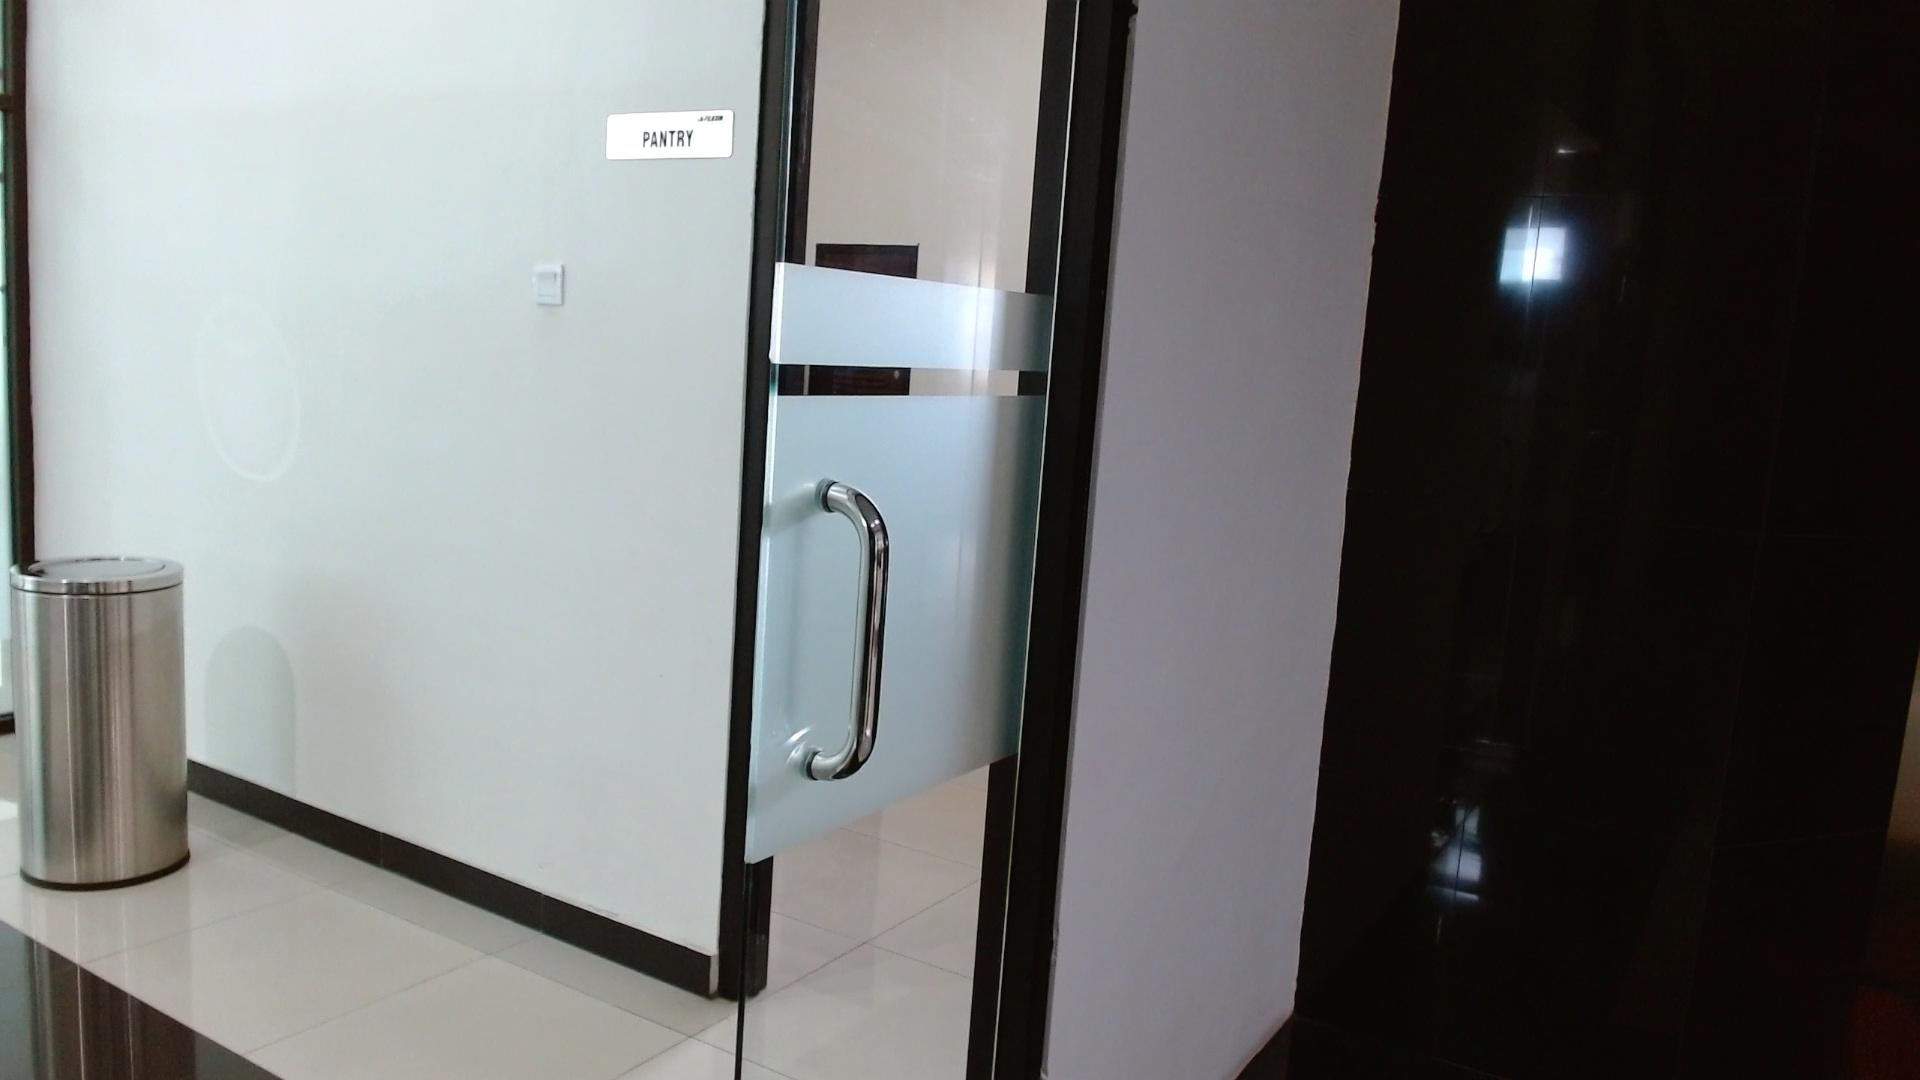plate: (605, 109, 735, 160)
